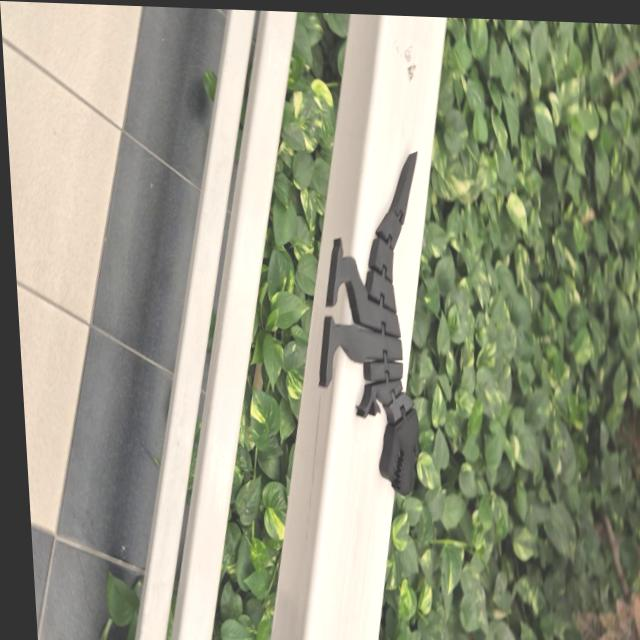dino: (303, 145, 440, 498)
